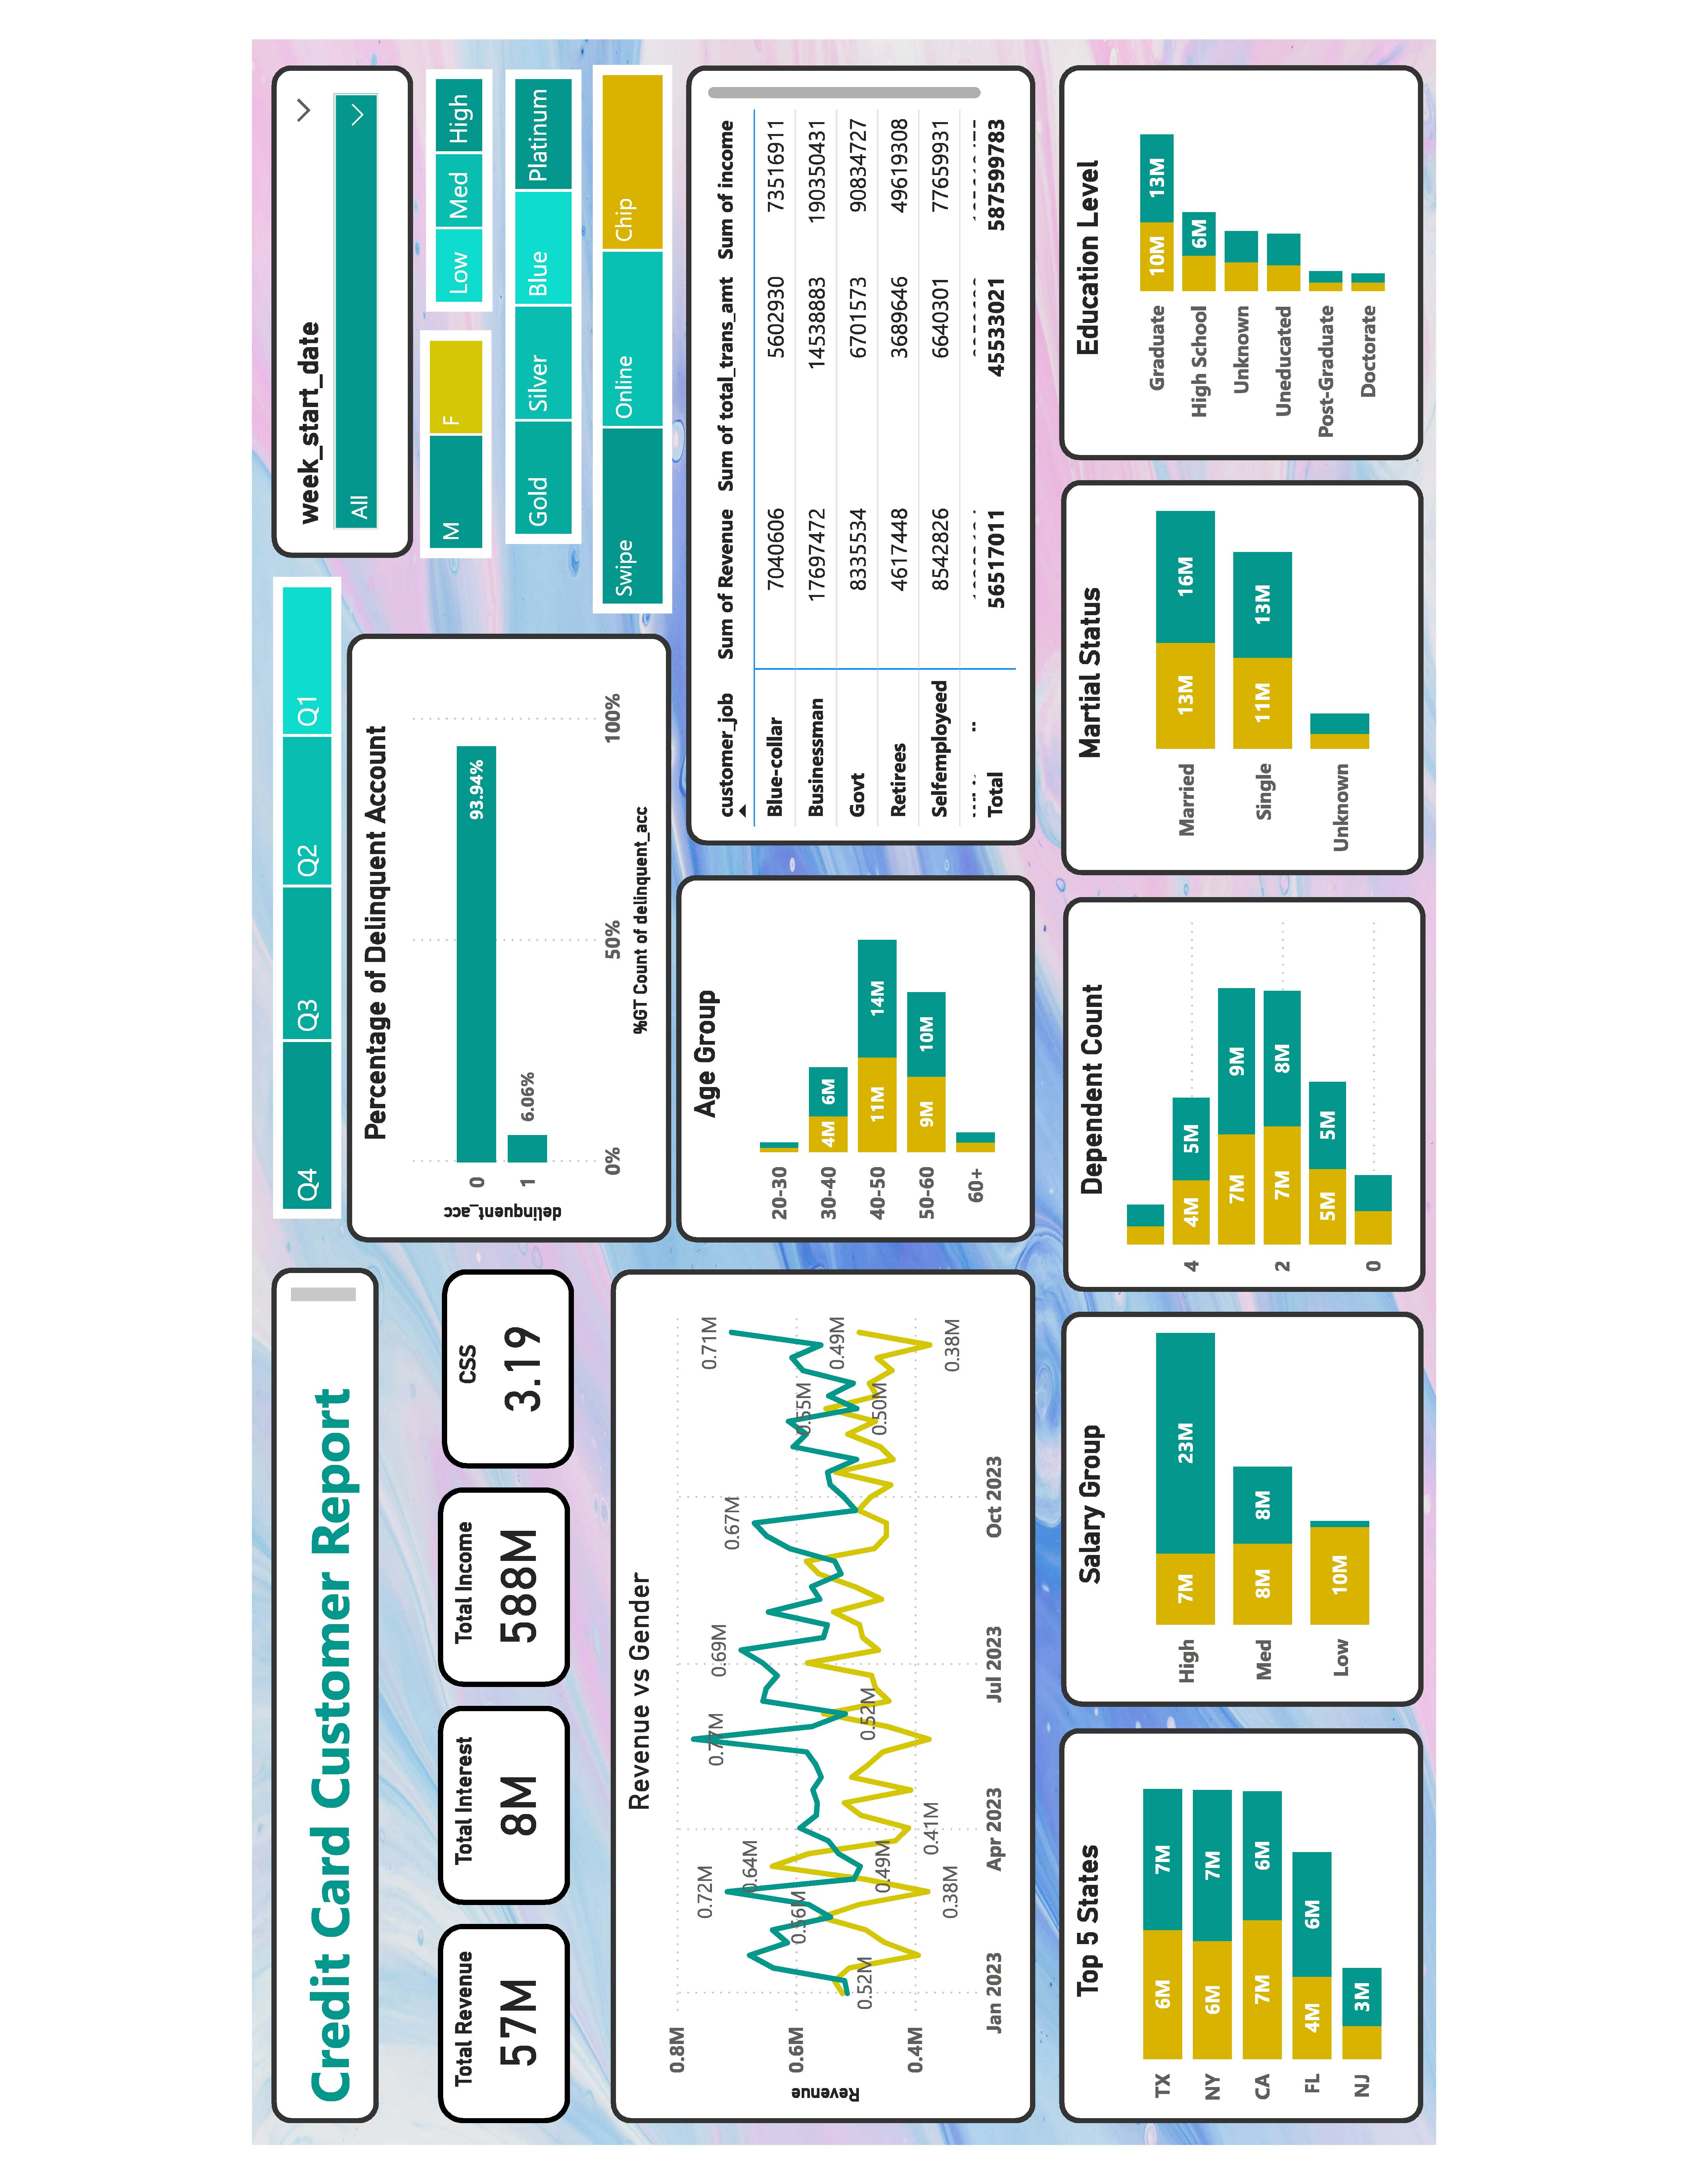

Layout of this report page (visuals, bound fields, positions):
{"tool":"powerbi","page":{"name":"CC_Customer","canvas":[1280,720],"ordinal":1},"visuals":[{"type":"textbox","box":[13.1,11.6,520.4,65.4],"z":0},{"type":"barChart","title":"Salary Group","fields":{"Y":["Sum(public cc_detail.Revenue)"],"Category":["public cust_detail.IncomeGroup"],"Series":["public cust_detail.gender"]},"box":[266.1,492.8,240,220],"z":1000},{"type":"pivotTable","fields":{"Rows":["public cust_detail.customer_job"],"Values":["Sum(public cc_detail.Revenue)","Sum(public cc_detail.total_trans_amt)","Sum(public cust_detail.income)"]},"box":[790.2,264.2,474.1,212.3],"z":2000},{"type":"card","title":"Total Revenue","fields":{"Values":["Sum(public cc_detail.Revenue)"]},"box":[13.3,113.4,120.6,79.6],"z":3000},{"type":"card","title":"Total Interest","fields":{"Values":["Sum(public cc_detail.interest_earned)"]},"box":[146,113.4,120.6,79.6],"z":4000},{"type":"card","title":"Total Income","fields":{"Values":["Sum(public cust_detail.income)"]},"box":[278.7,113.4,120.6,79.6],"z":5000},{"type":"card","title":"CSS","fields":{"Values":["Avg(public cust_detail.cust_satisfaction_score)"]},"box":[411.4,115.5,120.6,79.6],"z":6000},{"type":"slicer","fields":{"Values":["public cc_detail.week_start_date"]},"box":[964.8,11.6,298.9,86.2],"z":7000},{"type":"treemap","fields":{"Group":["public cc_detail.qtr"],"Values":["Avg(public cc_detail.client_num)"]},"box":[563.4,13.3,389.7,41],"z":8000},{"type":"treemap","fields":{"Group":["public cc_detail.card_category"],"Values":["Avg(public cc_detail.client_num)"]},"box":[973.6,153.9,288.3,45.8],"z":9000},{"type":"treemap","fields":{"Group":["public cust_detail.IncomeGroup"],"Values":["Avg(public cc_detail.client_num)"]},"box":[1114.8,106,147.2,39.8],"z":10000},{"type":"lineChart","title":"Revenue vs Gender","fields":{"Category":["public cc_detail.week_start_date.Variation.Date Hierarchy.Year","public cc_detail.week_start_date.Variation.Date Hierarchy.Month","public cc_detail.week_start_date.Variation.Date Hierarchy.Day"],"Y":["Sum(public cc_detail.Revenue)"],"Series":["public cust_detail.gender"]},"box":[13.3,218.4,518.8,258.2],"z":11000},{"type":"treemap","fields":{"Values":["Sum(public cc_detail.Revenue)"],"Group":["public cust_detail.gender"]},"box":[965.2,102.5,137.5,43.4],"z":12000},{"type":"barChart","title":"Age Group","fields":{"Y":["Sum(public cc_detail.Revenue)"],"Category":["public cust_detail.AgeGroup"],"Series":["public cust_detail.gender"]},"box":[548.9,258.2,223.2,218.4],"z":13000},{"type":"barChart","title":"Dependent Count","fields":{"Y":["Sum(public cc_detail.Revenue)"],"Category":["public cust_detail.dependent_count"],"Series":["public cust_detail.gender"]},"box":[518.8,493.4,240.1,219.6],"z":14000},{"type":"barChart","title":"Education Level","fields":{"Y":["Sum(public cc_detail.Revenue)"],"Category":["public cust_detail.education_level"],"Series":["public cust_detail.gender"]},"box":[1024.3,491,240.1,220.8],"z":15000},{"type":"barChart","title":"Top 5 States","fields":{"Y":["Sum(public cc_detail.Revenue)"],"Category":["public cust_detail.state_cd"],"Series":["public cust_detail.gender"]},"box":[13.3,491,240.1,220.8],"z":16000},{"type":"barChart","title":"Martial Status","fields":{"Y":["Sum(public cc_detail.Revenue)"],"Category":["public cust_detail.marital_status"],"Series":["public cust_detail.gender"]},"box":[771.5,492.2,240,220],"z":17000},{"type":"treemap","fields":{"Values":["Avg(public cust_detail.client_num)"],"Group":["public cc_detail.use_chip"]},"box":[931.4,207.8,333,48.3],"z":18000},{"type":"barChart","title":"Percentage of Delinquent Account ","fields":{"Category":["public cc_detail.delinquent_acc","public cust_detail.customer_job"],"Y":["Divide(CountNonNull(public cc_detail.delinquent_acc), ScopedEval(CountNonNull(public cc_detail.delinquent_acc), []))"]},"box":[548.9,57.9,370.4,196.6],"z":19000}]}

Visuals, with their boxes on the page's 1280x720 design canvas (x1, y1, x2, y2). These are canvas units, not pixel positions in the 1688x2184 screenshot, which may show the page scaled, cropped or inside an application window:
textbox: bbox(13, 12, 534, 77)
"Salary Group" barChart: bbox(266, 493, 506, 713)
pivotTable - public cust_detail.customer_job x Sum(public cc_detail.Revenue): bbox(790, 264, 1264, 476)
"Total Revenue" card: bbox(13, 113, 134, 193)
"Total Interest" card: bbox(146, 113, 267, 193)
"Total Income" card: bbox(279, 113, 399, 193)
"CSS" card: bbox(411, 116, 532, 195)
slicer - public cc_detail.week_start_date: bbox(965, 12, 1264, 98)
treemap - public cc_detail.qtr x Avg(public cc_detail.client_num): bbox(563, 13, 953, 54)
treemap - public cc_detail.card_category x Avg(public cc_detail.client_num): bbox(974, 154, 1262, 200)
treemap - public cust_detail.IncomeGroup x Avg(public cc_detail.client_num): bbox(1115, 106, 1262, 146)
"Revenue vs Gender" lineChart: bbox(13, 218, 532, 477)
treemap - Sum(public cc_detail.Revenue) x public cust_detail.gender: bbox(965, 102, 1103, 146)
"Age Group" barChart: bbox(549, 258, 772, 477)
"Dependent Count" barChart: bbox(519, 493, 759, 713)
"Education Level" barChart: bbox(1024, 491, 1264, 712)
"Top 5 States" barChart: bbox(13, 491, 253, 712)
"Martial Status" barChart: bbox(772, 492, 1012, 712)
treemap - Avg(public cust_detail.client_num) x public cc_detail.use_chip: bbox(931, 208, 1264, 256)
"Percentage of Delinquent Account " barChart: bbox(549, 58, 919, 254)
